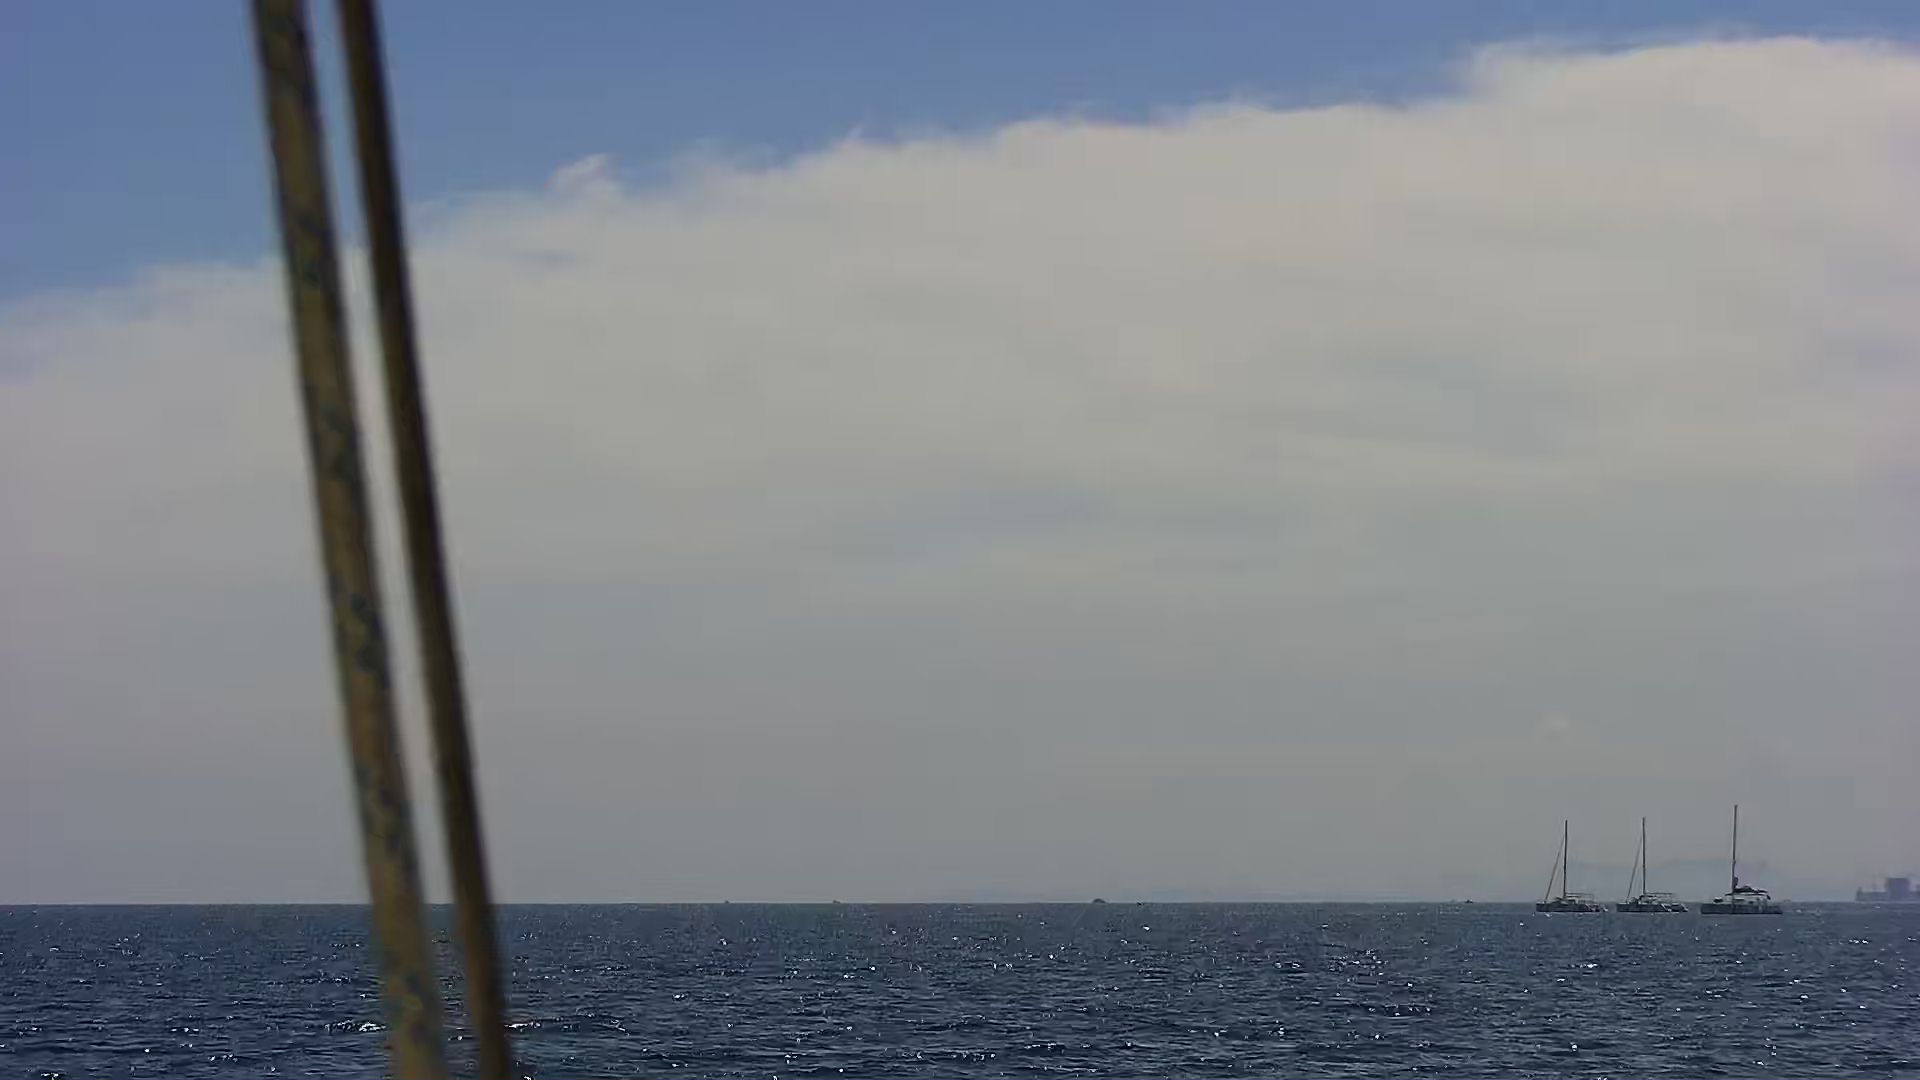boat: (1698, 808, 1784, 918), (1619, 815, 1698, 916), (1534, 814, 1602, 913)
